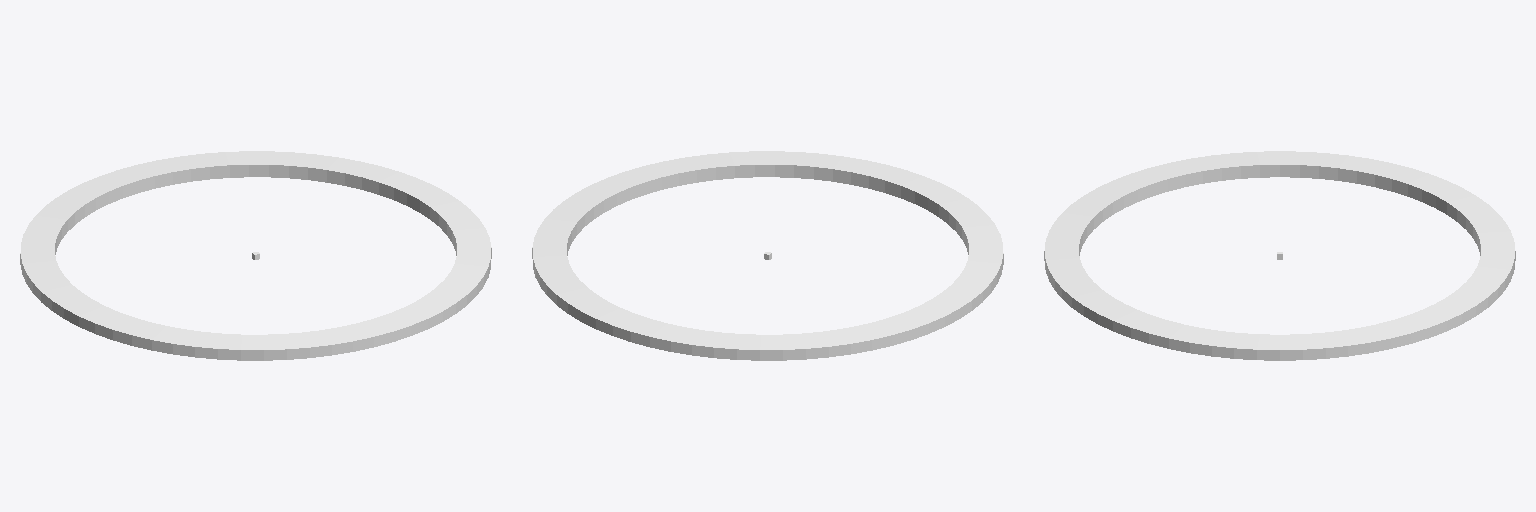
The robot description file, URDF, robot "torus":
<?xml version="1.0" ?>
<robot name="torus">
  <link name="torus">
    <contact>
      <lateral_friction value="1.0"/>
      <rolling_friction value="1.0"/>
      <inertia_scaling value="3.0"/>
      <contact_cfm value="0.0"/>
      <contact_erp value="occupancy_map1.0"/>
    </contact>
    <inertial>
      <origin rpy="0 0 0" xyz="0 0 0"/>
       <mass value="0"/>
       <inertia ixx="1" ixy="0" ixz="0" iyy="1" iyz="0" izz="1"/>
    </inertial>
    <visual>
      <origin rpy="0 0 0" xyz="0 0 0"/>
      <geometry>
				<mesh filename="ring.stl" scale=".0024 .0024 .0024"/>
      </geometry>
       <material name="white">
        <color rgba="1 1 1 1"/>
      </material>
    </visual>
    <collision>
      <origin rpy="0 0 0" xyz="0 0 0"/>
      <geometry>
	 	<mesh filename="ring.stl" scale=".0024  .0024 .0024"/>
      </geometry>
    </collision>
  </link>
</robot>

--- Render facts (derived) ---
3 views of the same robot in one strip: view 1: azimuth 30°, elevation 25°; view 2: azimuth 150°, elevation 25°; view 3: azimuth 270°, elevation 25° (orthographic).
Robot: torus — 1 links, 0 joints (none); root link torus; default pose: every joint at zero.
Visible links, largest first — view 1: torus; view 2: torus; view 3: torus.
Link boxes in pixels (x1=…): torus: x1=20, y1=151, x2=491, y2=360; torus: x1=532, y1=151, x2=1003, y2=360; torus: x1=1044, y1=151, x2=1515, y2=360.
Size in the robot's own frame: 0.3624 by 0.3624 by 0.0107 metres.
Meshes: 1 distinct files referenced, 1 mesh visuals loaded (1 binary STL).